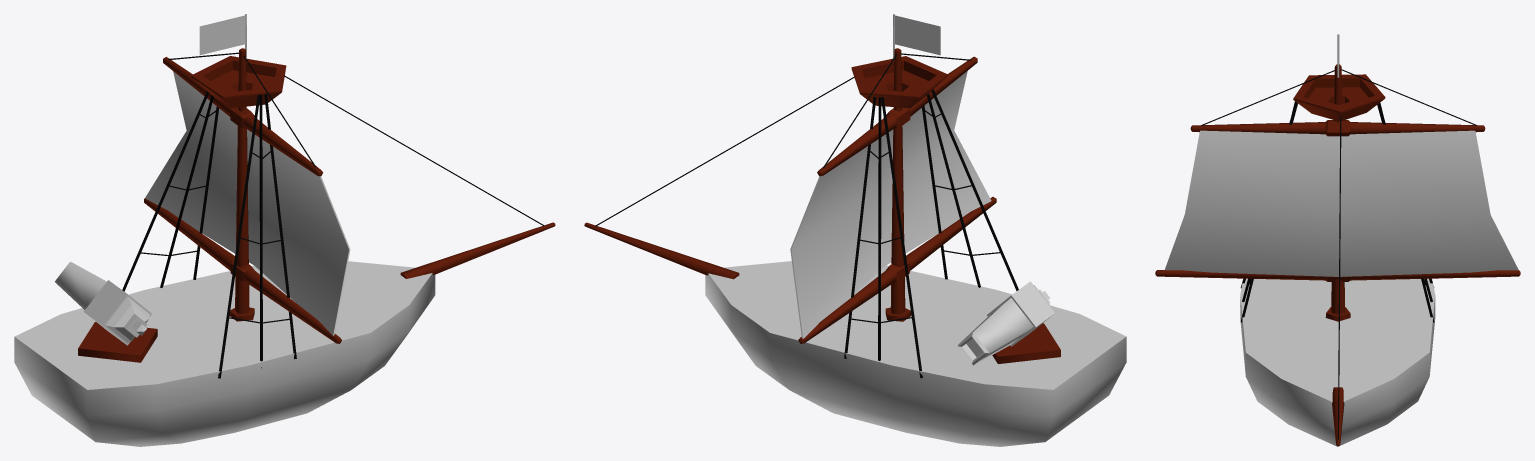
The model's file is boot_speler.FBX.
3 views of the same model, side by side, from view 1: azimuth 30°, elevation 25°; view 2: azimuth 150°, elevation 25°; view 3: azimuth 270°, elevation 25° (orthographic). The views are drawn at different scales.
Parts seen in each view (by area): view 1: boot_speler, Plane001, Cylinder007, Cylinder005, Cylinder003, Cylinder001, Cylinder004, Cylinder008, Cylinder002, Plane002, Line001, Line003 (+4 smaller); view 2: boot_speler, Plane001, Cylinder007, Cylinder005, Cylinder003, Cylinder001, Cylinder004, Cylinder008, Cylinder002, Plane002, Line004, Line006 (+4 smaller); view 3: Plane001, boot_speler, Cylinder005, Cylinder004, Cylinder003, Cylinder001, Line014, Cylinder002.
Boxes of the visible parts, x1,y1,x2,y2 form: boot_speler: (14, 261, 435, 446); Plane001: (145, 71, 350, 335); Cylinder007: (55, 261, 151, 345); Cylinder005: (191, 56, 286, 108); Cylinder003: (144, 198, 341, 343); Cylinder001: (229, 48, 254, 321); Cylinder004: (163, 57, 323, 176); Cylinder008: (78, 322, 157, 362); Cylinder002: (400, 222, 555, 278); Plane002: (199, 15, 245, 55); Line001: (218, 94, 260, 378); Line003: (259, 94, 262, 368); boot_speler: (705, 261, 1126, 446); Plane001: (790, 71, 991, 338); Cylinder007: (958, 281, 1054, 365); Cylinder005: (851, 56, 947, 108); Cylinder003: (798, 197, 996, 343); Cylinder001: (885, 48, 911, 321); Cylinder004: (817, 56, 977, 176); Cylinder008: (992, 323, 1060, 363); Cylinder002: (584, 222, 739, 279); Plane002: (894, 15, 940, 55); Line004: (881, 97, 922, 378); Line006: (878, 97, 881, 360); Plane001: (1165, 130, 1518, 276); boot_speler: (1240, 278, 1435, 446); Cylinder005: (1293, 74, 1385, 121); Cylinder004: (1190, 120, 1485, 136); Cylinder003: (1155, 270, 1520, 281); Cylinder001: (1325, 64, 1350, 321); Line014: (1338, 115, 1341, 439); Cylinder002: (1332, 387, 1344, 446).
Size of the model in its own units: 80.21 by 58.58 by 53.48.
